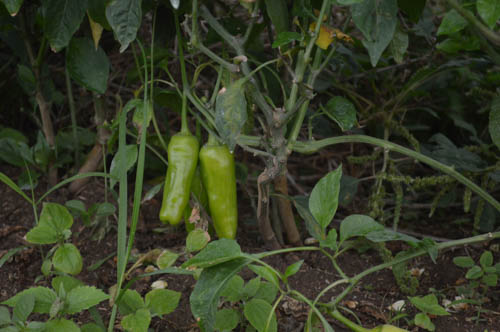ChiliPepper: (196, 140, 249, 241), (152, 127, 202, 229), (185, 166, 208, 239)
